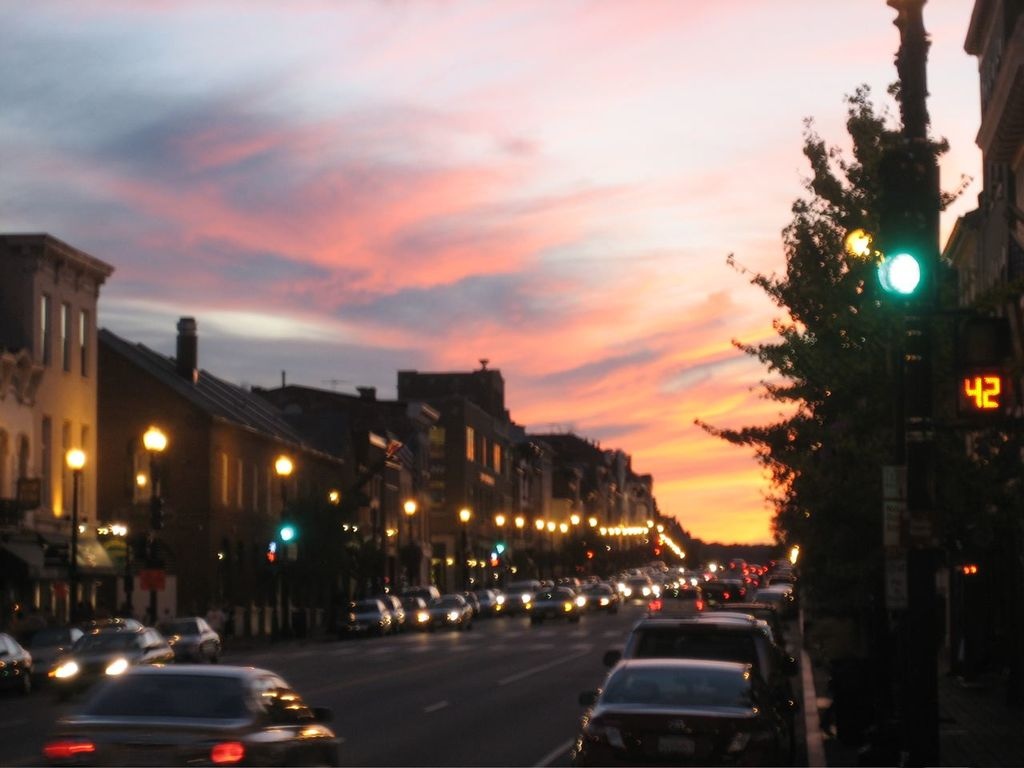Car: (560, 569, 807, 766), (16, 661, 361, 767), (321, 557, 736, 633), (34, 624, 181, 694), (154, 609, 224, 661), (0, 630, 42, 697), (46, 624, 89, 648)
